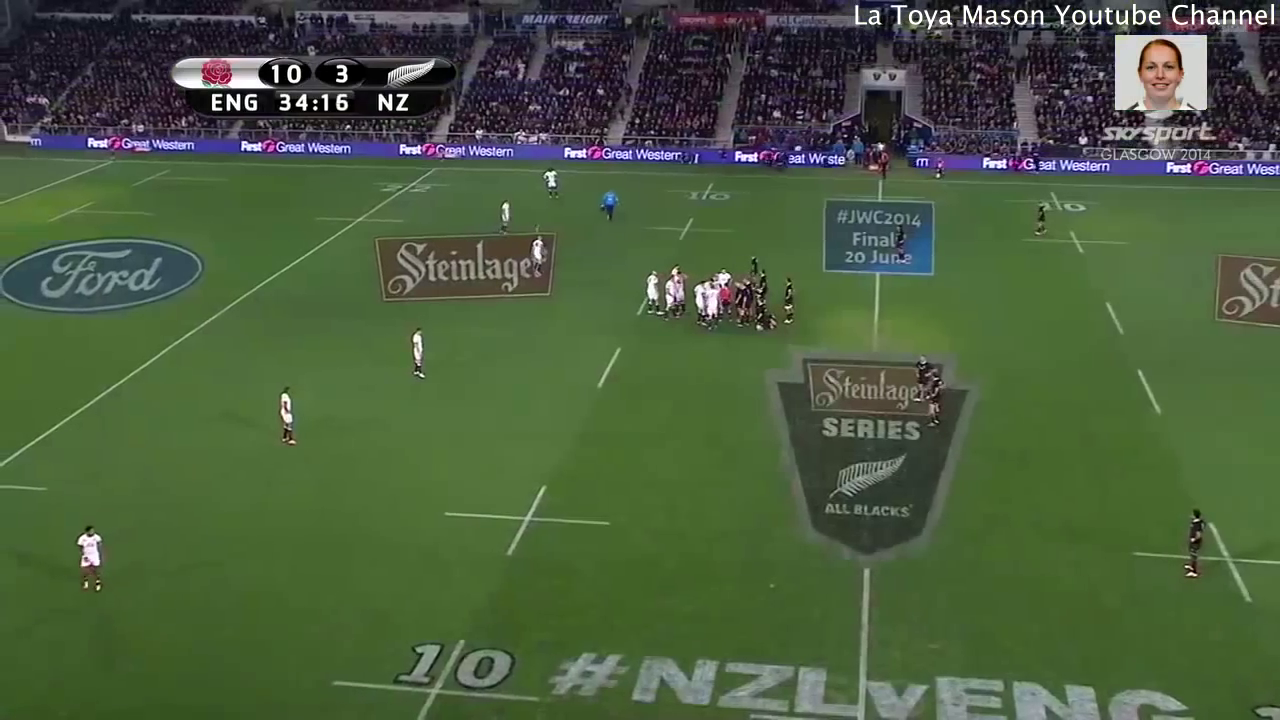10_metre: (322, 633, 544, 720), (435, 479, 619, 560), (1129, 514, 1280, 608), (1022, 224, 1135, 259), (1005, 187, 1103, 219), (642, 215, 738, 243), (663, 181, 751, 206)
player: (69, 520, 113, 599), (1177, 503, 1212, 588), (272, 382, 306, 451), (922, 366, 948, 431), (405, 323, 430, 386), (641, 264, 665, 325), (777, 272, 801, 330), (909, 348, 932, 406), (597, 185, 625, 231), (889, 220, 915, 262), (731, 280, 752, 330), (494, 196, 517, 240), (526, 232, 548, 277), (540, 164, 563, 204), (673, 267, 692, 314), (702, 281, 719, 332), (1030, 201, 1052, 240), (753, 300, 777, 334), (662, 273, 678, 322), (691, 279, 707, 325), (718, 282, 734, 320), (757, 268, 770, 301), (714, 264, 731, 287), (747, 251, 760, 279), (666, 260, 682, 280)
